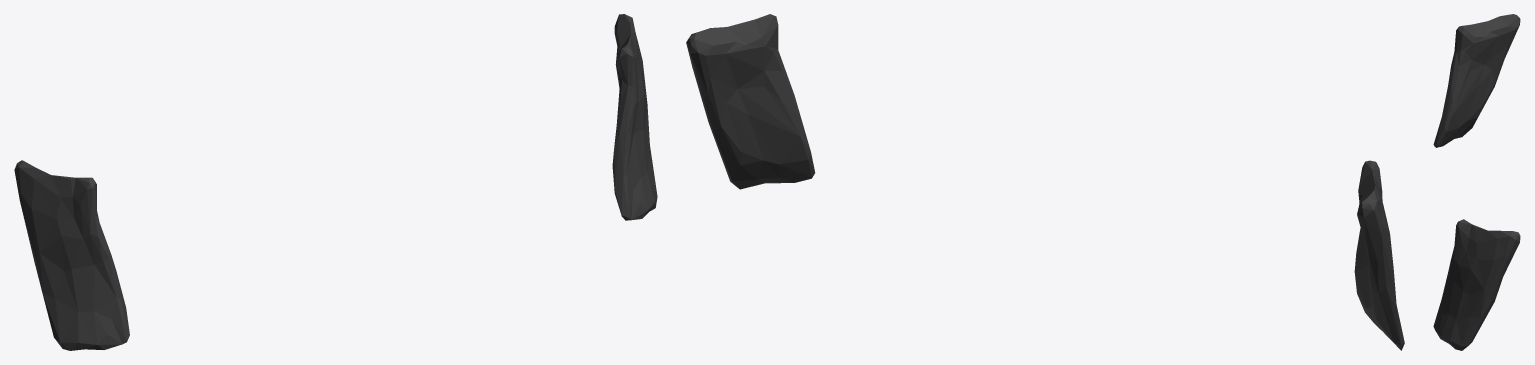
File: m_malaris.glb
3 renders of one model, left to right at view 1: azimuth 30°, elevation 25°; view 2: azimuth 150°, elevation 25°; view 3: azimuth 270°, elevation 25°, orthographic. The views are drawn at different scales.
Parts seen in each view (by area): view 1: m_malaris; view 2: m_malaris; view 3: m_malaris.
Part boxes in pixels (<box>): m_malaris: <box>14,14,657,350</box>; m_malaris: <box>686,14,1404,350</box>; m_malaris: <box>1433,14,1520,350</box>.
Bounding box in the file's own units: 0.00325 × 0.000825 × 0.000536.
Materials: 1 (1 with a texture image).
